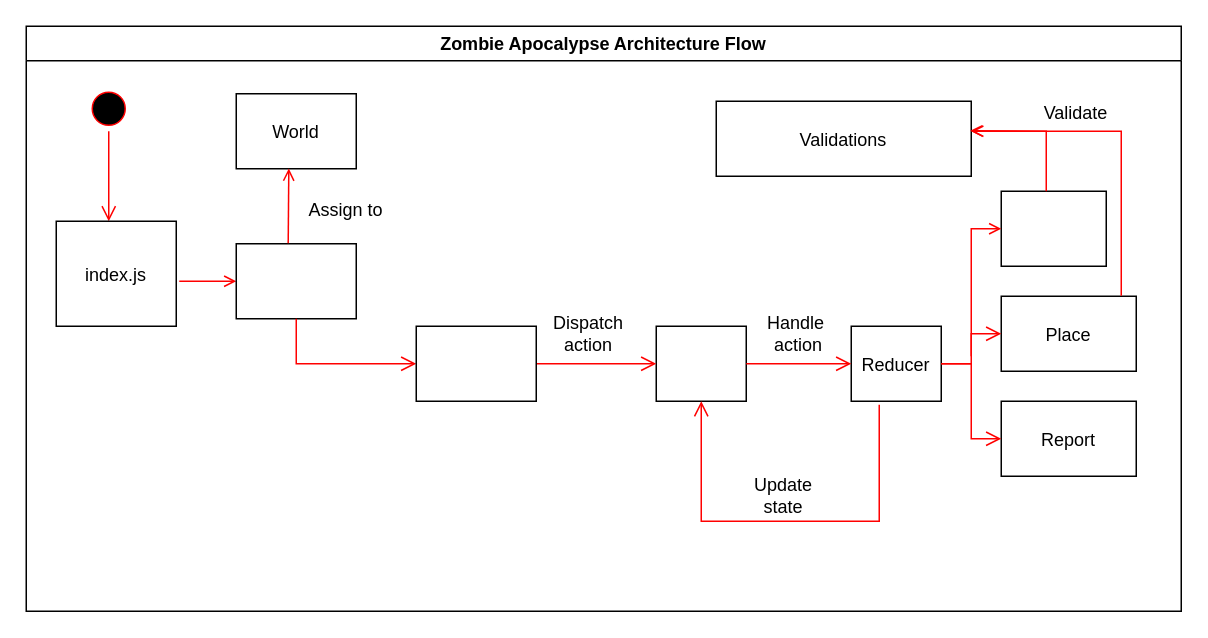
Some shapes in this 1208 by 638 pixel diagram are drawn without their labels. The box of each missing label's shape, as (x1, y1, x2, y2) in pixels:
actionHelper: (415, 325, 536, 401)
Move: (1000, 190, 1106, 266)
Program: (235, 242, 356, 319)
Store: (655, 325, 746, 401)
